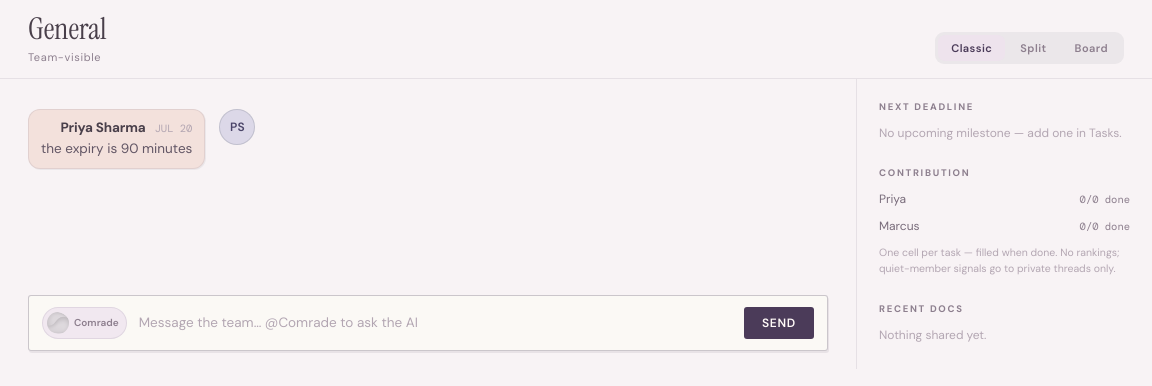
remember this › says it was queued, not that it was remembered
Hover over the text "the expiry is 90 minutes" at (117, 149), box [41, 139, 192, 159]
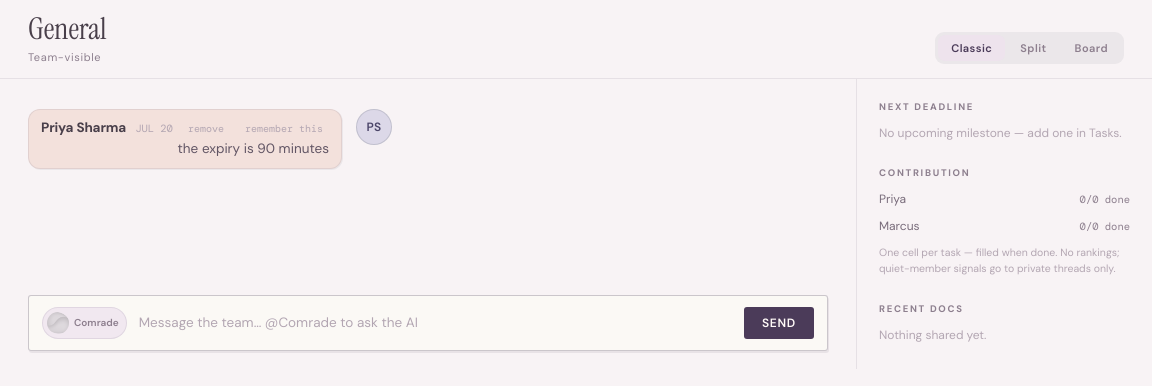
Click the button titled "Queue this for the wiki" at (284, 128), box [239, 121, 329, 136]
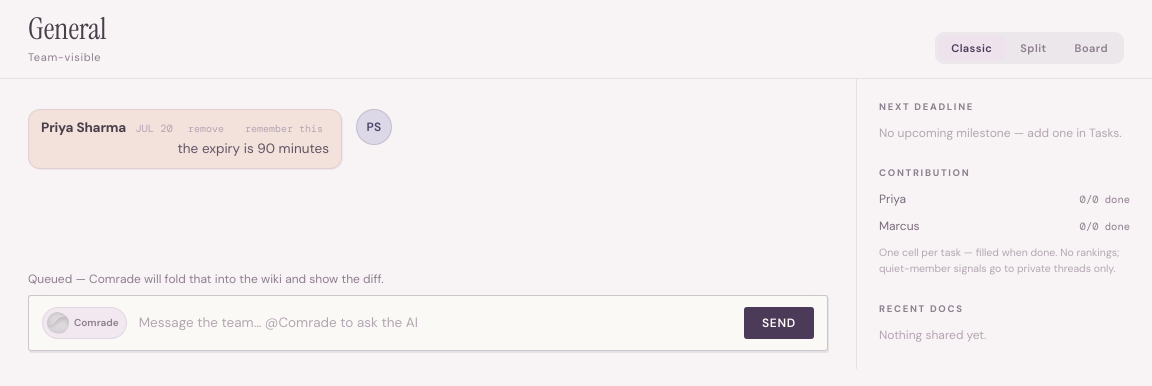
expect the text "Queued" is shown: met, box [28, 270, 384, 286]
